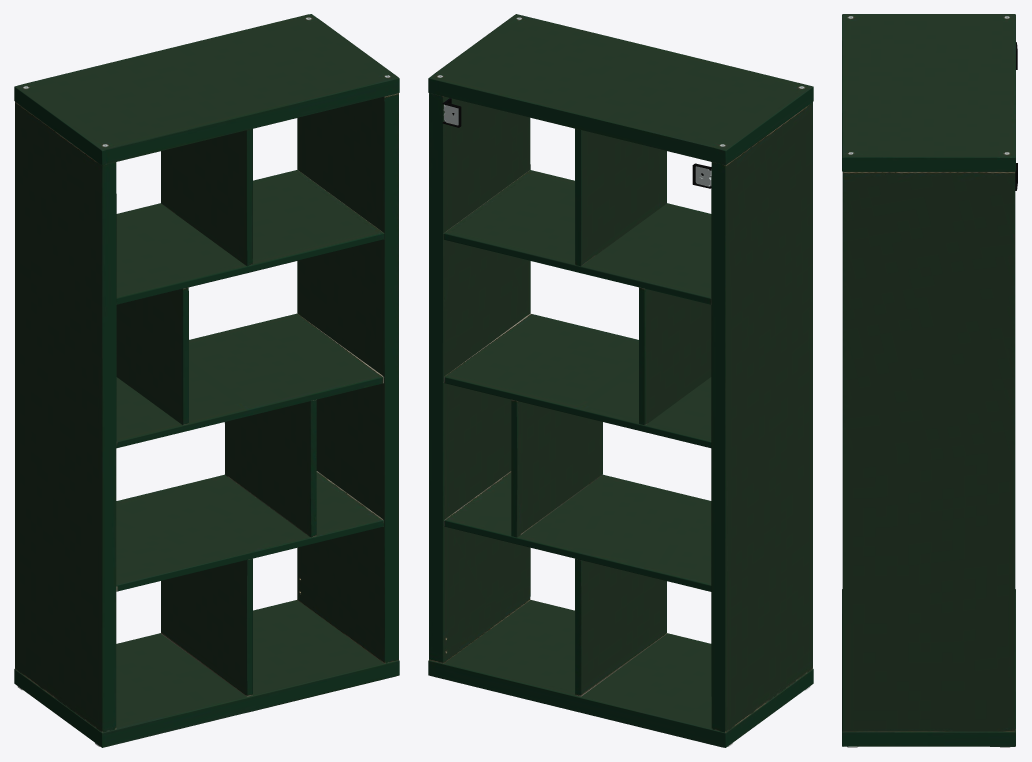
The model's file is KALLAX shelf.glb.
3 renders of one model, left to right at view 1: azimuth 30°, elevation 25°; view 2: azimuth 150°, elevation 25°; view 3: azimuth 270°, elevation 25°, orthographic.
Visible parts, largest first — view 1: ASY_ART_40562079_S02_NV01; view 2: ASY_ART_40562079_S02_NV01; view 3: ASY_ART_40562079_S02_NV01.
Part boxes in pixels (x1=…): ASY_ART_40562079_S02_NV01: x1=14, y1=14, x2=399, y2=747; ASY_ART_40562079_S02_NV01: x1=428, y1=14, x2=813, y2=747; ASY_ART_40562079_S02_NV01: x1=842, y1=14, x2=1017, y2=747.
Size of the model in its own units: 0.7653 by 1.47 by 0.3963.
Materials: 1 (1 with a texture image).
